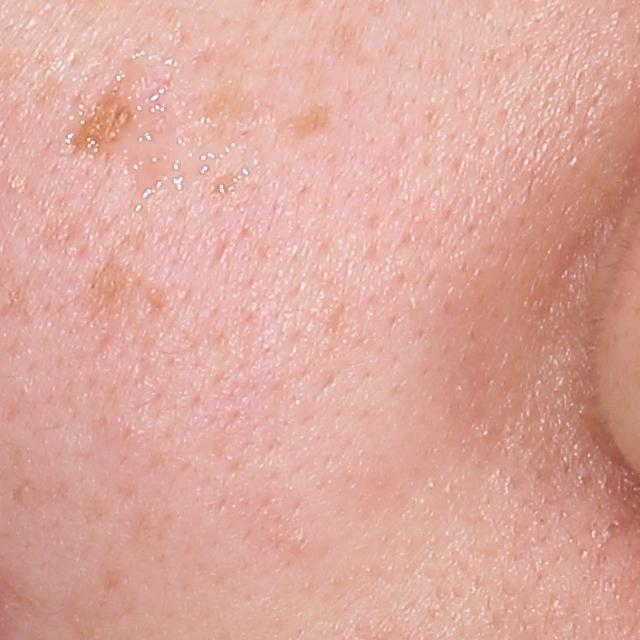melasma: (192, 82, 264, 156), (65, 93, 137, 161), (82, 253, 137, 312), (293, 95, 341, 152), (325, 18, 378, 67)
